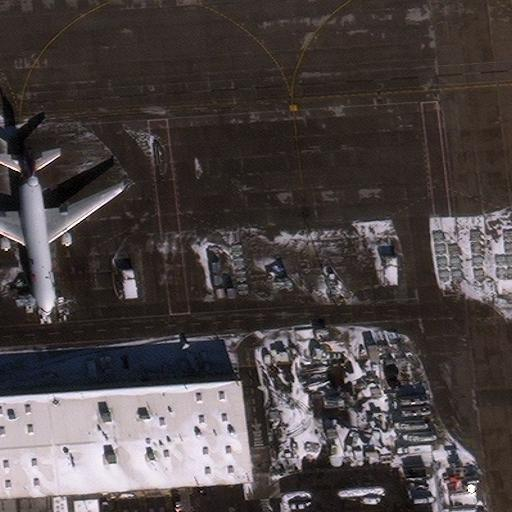Large Civil Transport: (0, 148, 123, 317)
